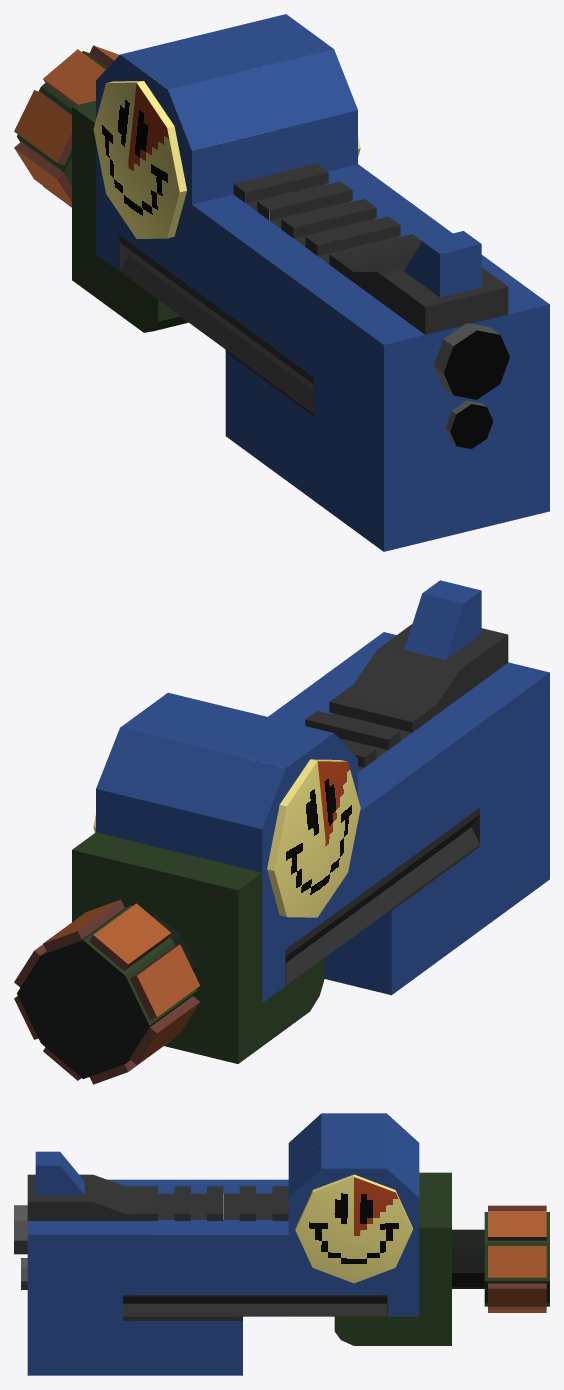
Rendered from Zappotronic.gltf.
The picture shows the model from 3 angles, top to bottom: view 1: azimuth 30°, elevation 25°; view 2: azimuth 150°, elevation 25°; view 3: azimuth 270°, elevation 25°; orthographic projection. The views are drawn at different scales.
Visible parts, largest first — view 1: Gun, Grip; view 2: Gun, Grip; view 3: Gun, Grip.
Boxes of the visible parts, left/top/right/bottom form: Gun: left=93, top=14, right=549, bottom=551; Grip: left=14, top=45, right=188, bottom=332; Gun: left=93, top=580, right=549, bottom=1002; Grip: left=14, top=832, right=324, bottom=1084; Gun: left=14, top=1113, right=419, bottom=1375; Grip: left=334, top=1172, right=549, bottom=1345.
Size of the model in its own units: 2.38 by 3.5 by 8.21.
2 materials, 2 textured.
